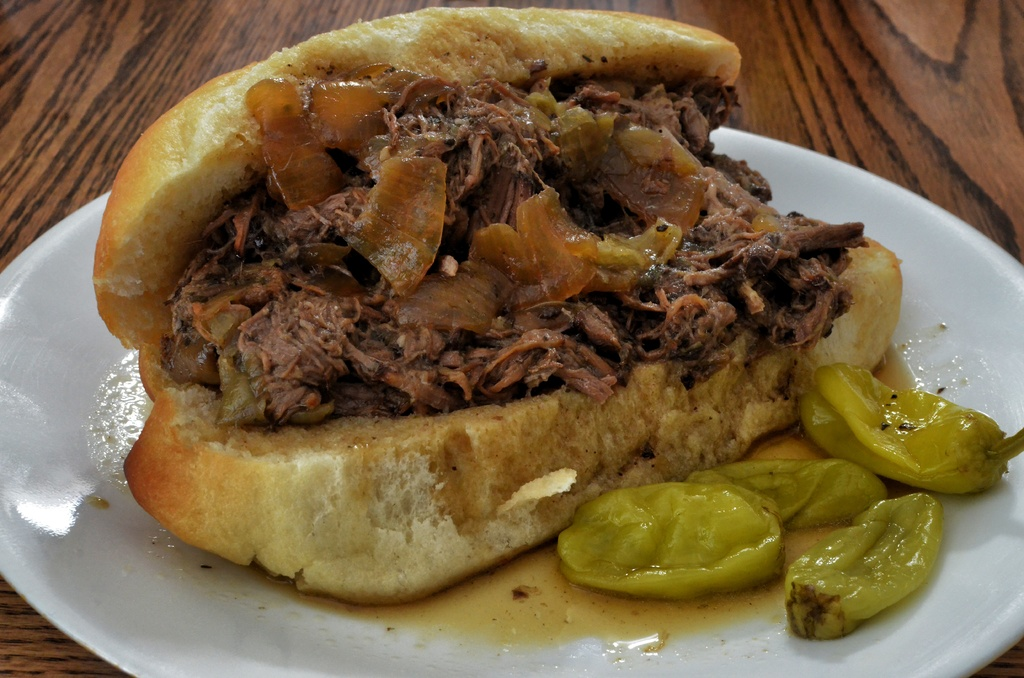sandwich: (92, 7, 907, 608)
